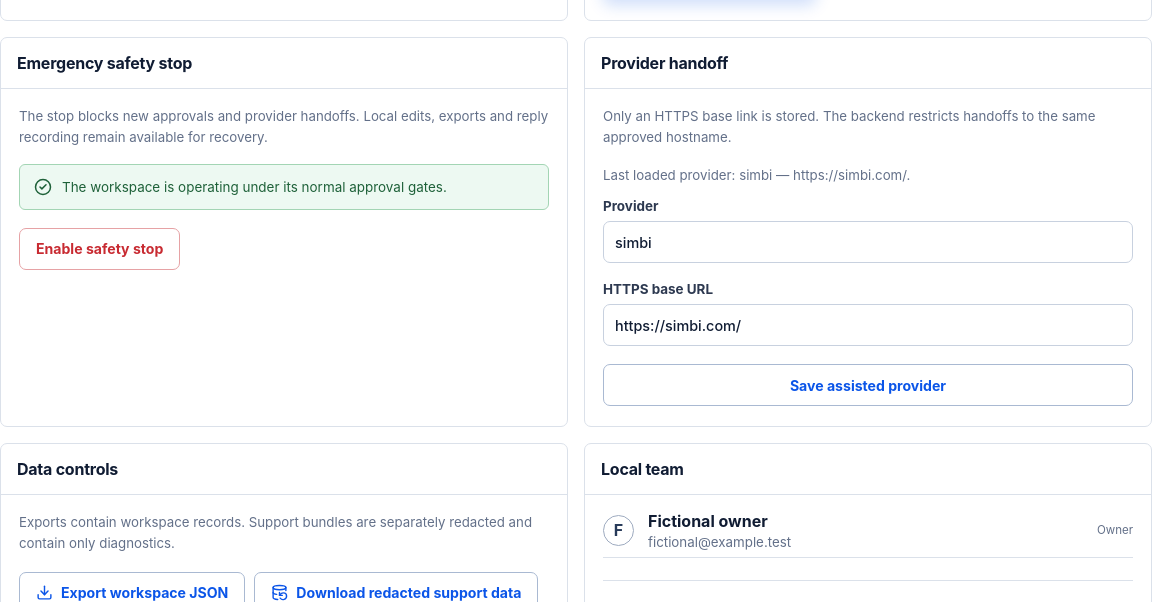
Scenario: does not claim success when a valid stop confirmation is contradicted by the follow-up reads
(page scrolled)
What coordinates should you click on to do the following:
click the button "Enable safety stop"
I would click on:
 (100, 249)
Its box is left=19, top=228, right=180, bottom=270.
(page scrolled)
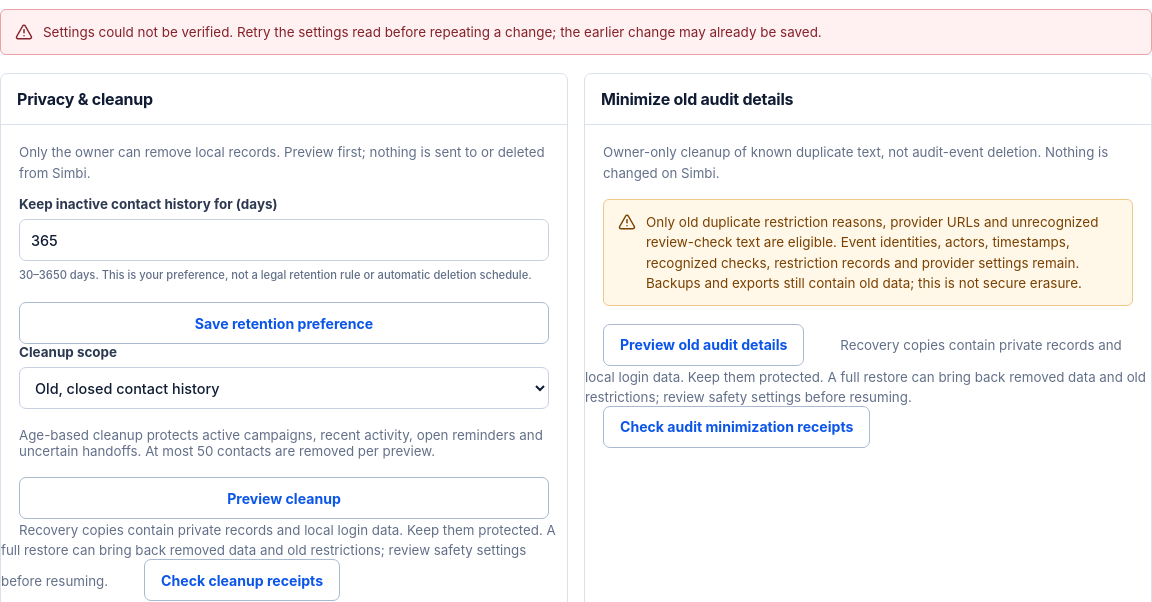
Expected: the text "Settings could not be verified" is shown, left=43, top=24, right=822, bottom=40
